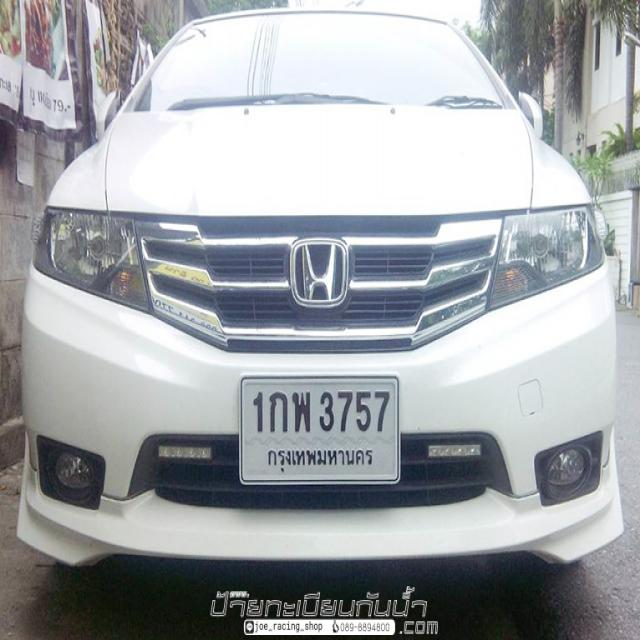license_plate: (238, 374, 402, 487)
